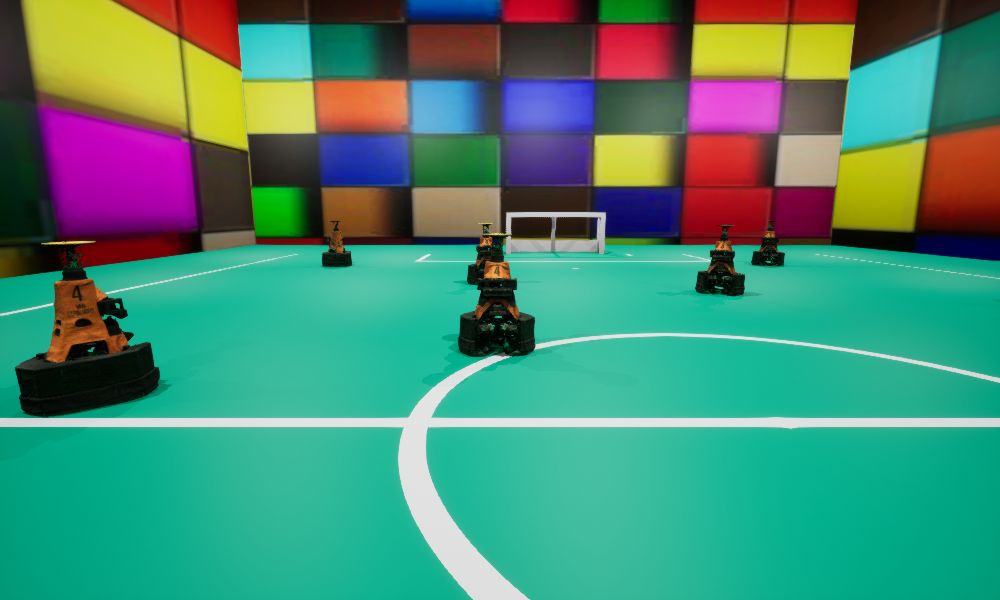o: (15, 241, 159, 416), (458, 233, 534, 356), (695, 225, 744, 294), (467, 223, 501, 284), (751, 220, 784, 265), (322, 221, 351, 266)
